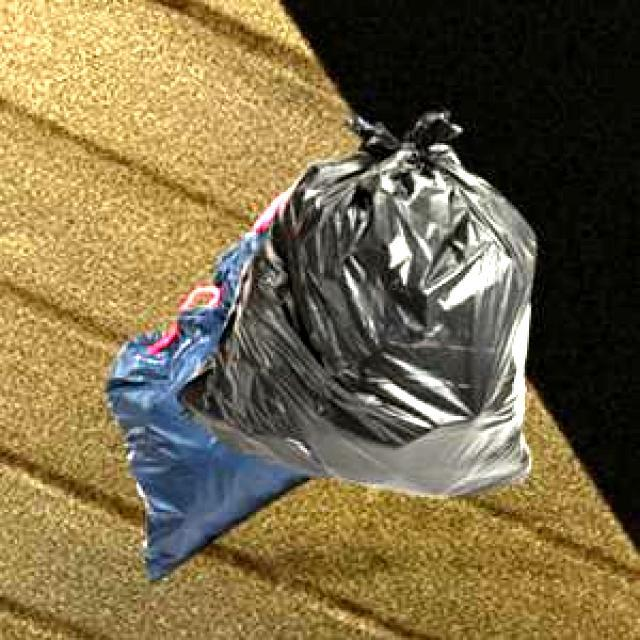Garbage_Bag: (173, 108, 532, 494), (103, 193, 319, 582)
